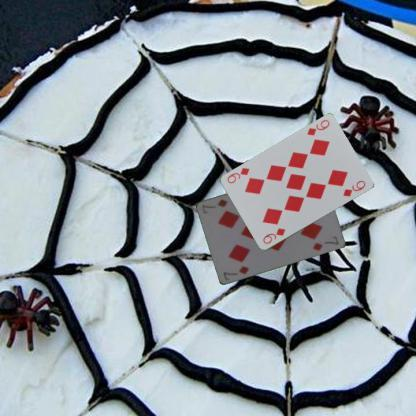7d: (220, 263, 250, 282)
9d: (260, 226, 287, 246), (304, 118, 332, 136)
